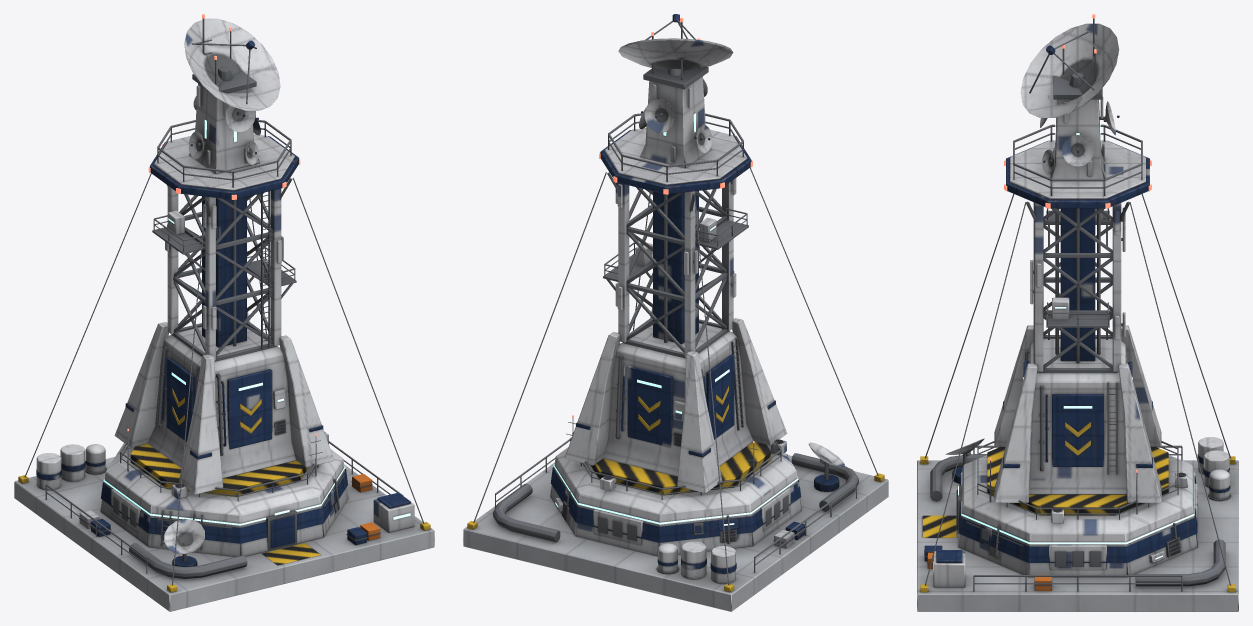
Rendered from 重製_通訊塔.glb.
3 renders of one model, left to right at view 1: azimuth 30°, elevation 25°; view 2: azimuth 150°, elevation 25°; view 3: azimuth 270°, elevation 25°, orthographic. The views are drawn at different scales.
Parts seen in each view (by area): view 1: Comm_Mesh; view 2: Comm_Mesh; view 3: Comm_Mesh.
Part boxes in pixels (x1,y1,x2,y2): Comm_Mesh: [14, 14, 434, 611]; Comm_Mesh: [463, 14, 888, 611]; Comm_Mesh: [917, 14, 1238, 611].
Bounding box in the file's own units: 10.98 × 20 × 11.14.
Materials: 3 (1 with a texture image).
